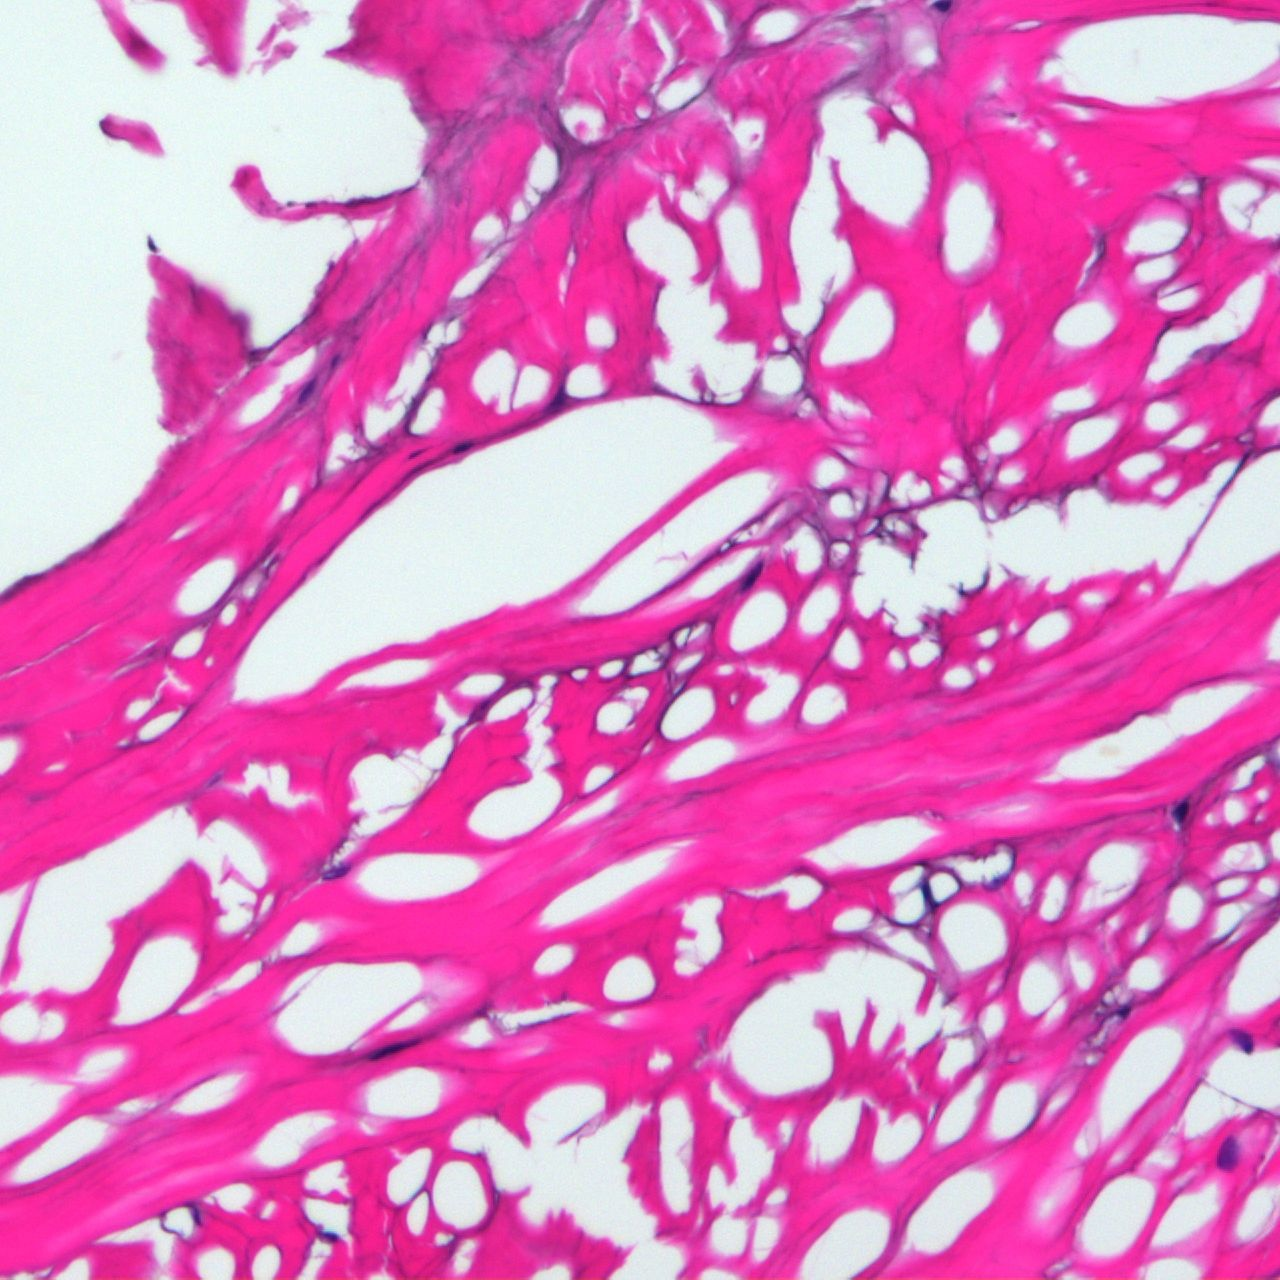nucleus-HE: (737, 557, 768, 595), (1216, 1135, 1241, 1171), (1228, 1022, 1258, 1054), (451, 438, 474, 455), (1173, 799, 1189, 821), (1119, 1006, 1129, 1017)
